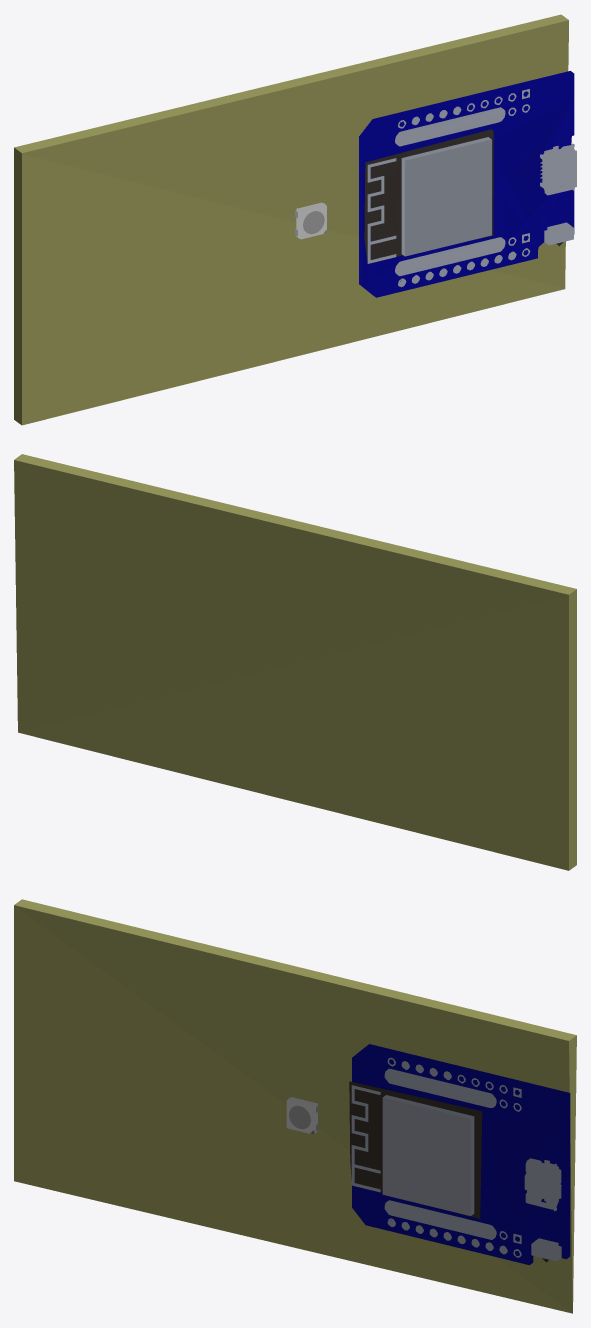
The model's file is hk-pcb.obj.
3 renders of one model, top to bottom at view 1: azimuth 30°, elevation 25°; view 2: azimuth 150°, elevation 25°; view 3: azimuth 330°, elevation 25°, orthographic.
Bounding box in the file's own units: 401 × 190 × 25.53.
